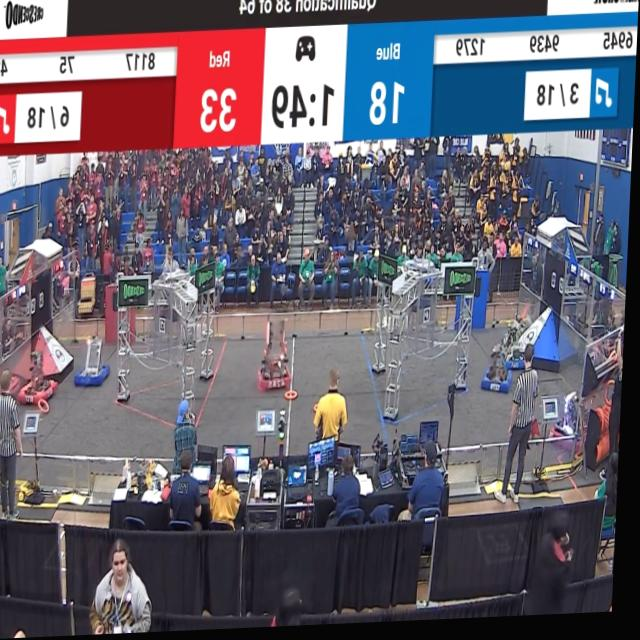Robot: (256, 315, 297, 401), (550, 391, 590, 459), (498, 313, 536, 378), (78, 333, 114, 394), (25, 347, 61, 401), (485, 346, 516, 400)
